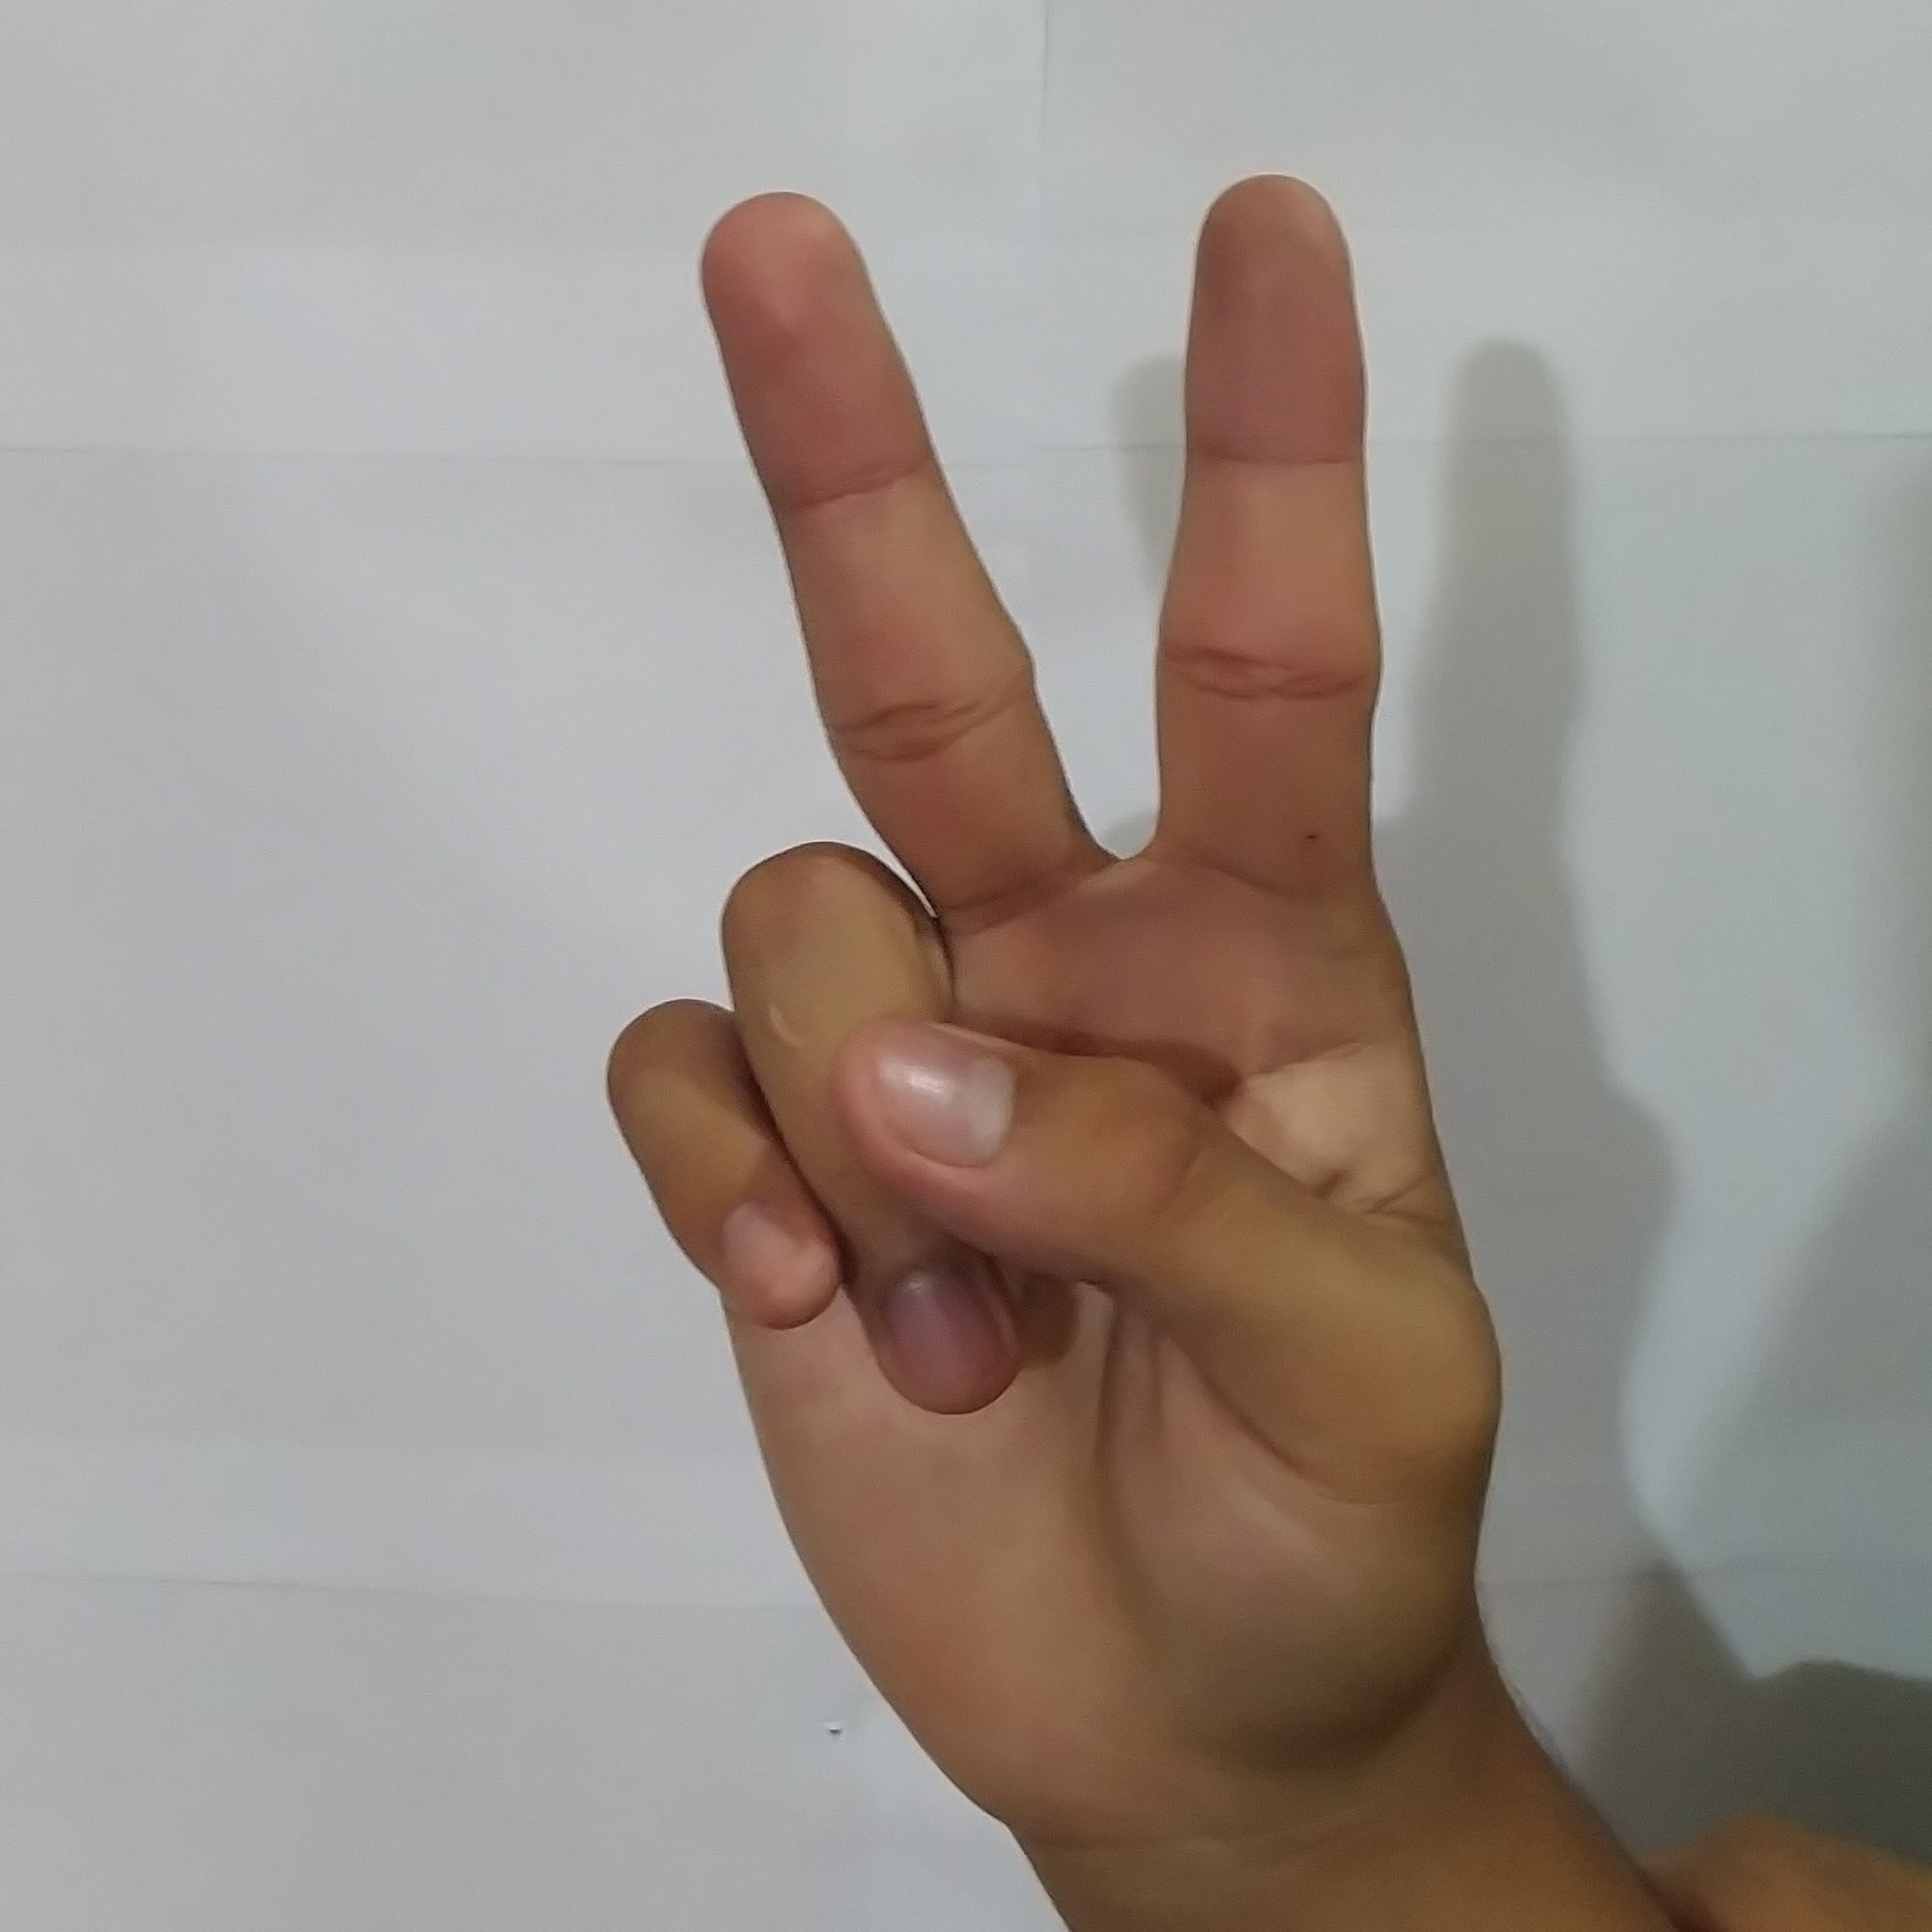V: (573, 133, 1569, 1805)
